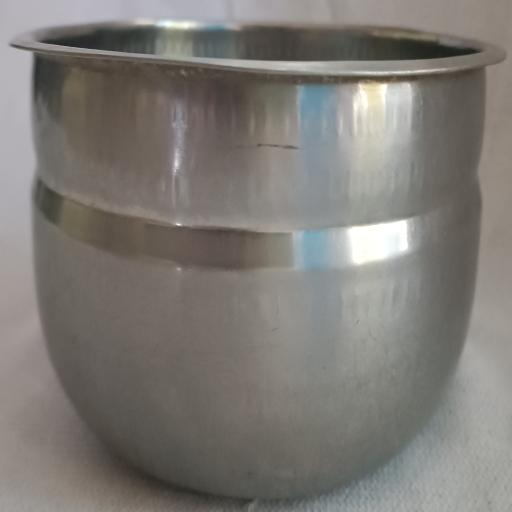vessel: (13, 21, 504, 497)
